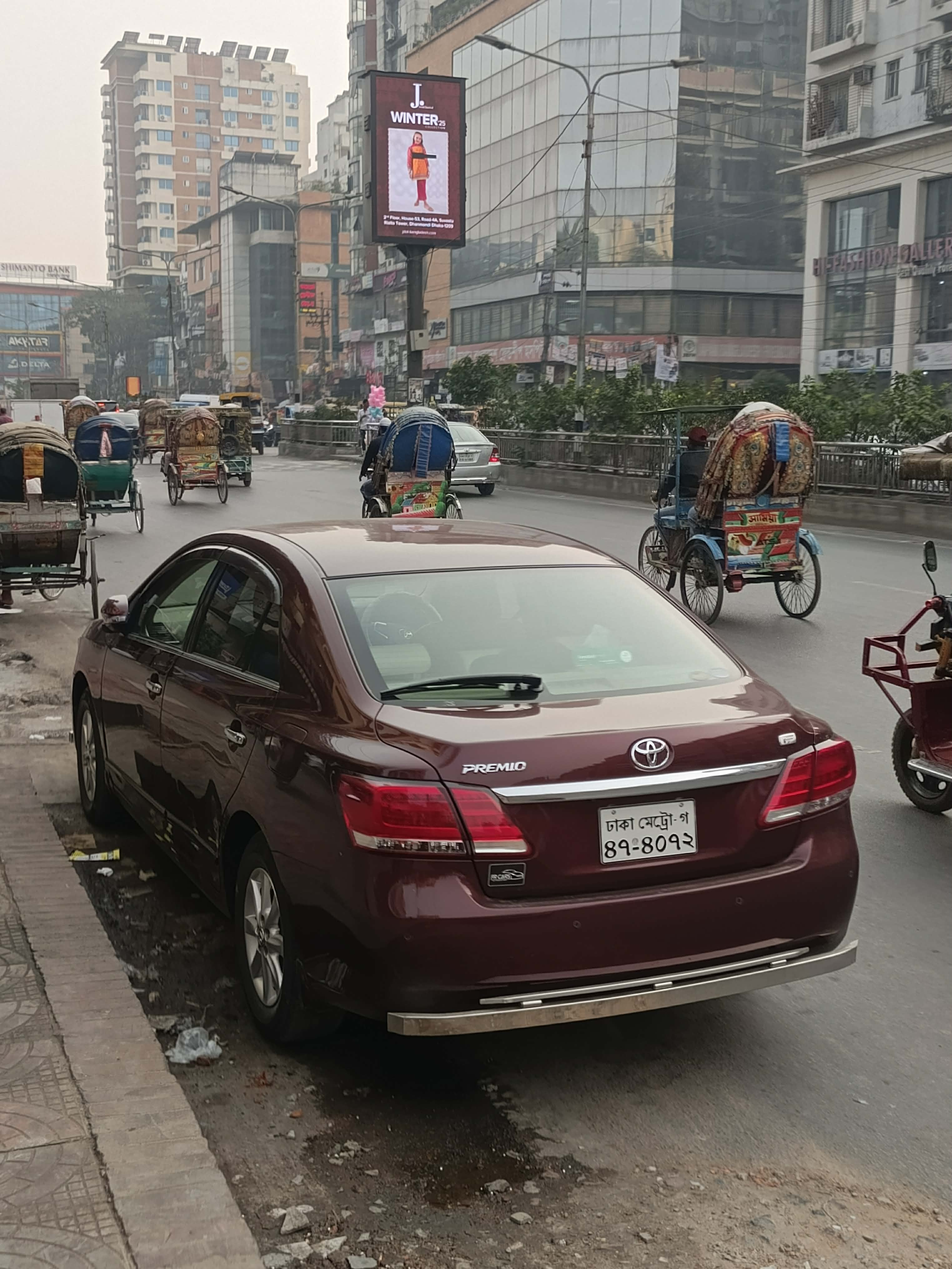auto-ricksaw: (629, 369, 832, 623), (0, 403, 153, 589), (366, 403, 463, 528), (160, 401, 237, 506)
private car: (41, 507, 879, 1078)
